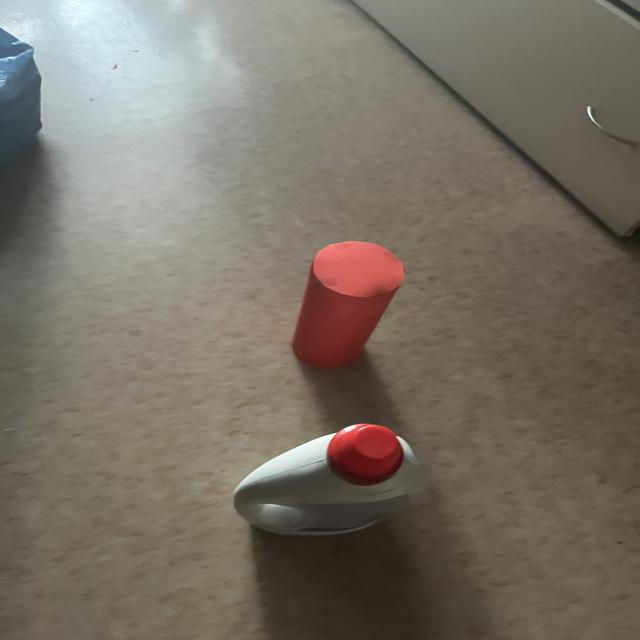przeszkoda: (291, 241, 404, 368)
